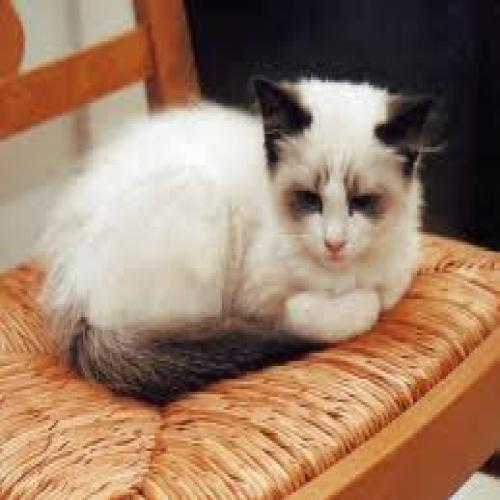ragdoll: (242, 58, 434, 281)
